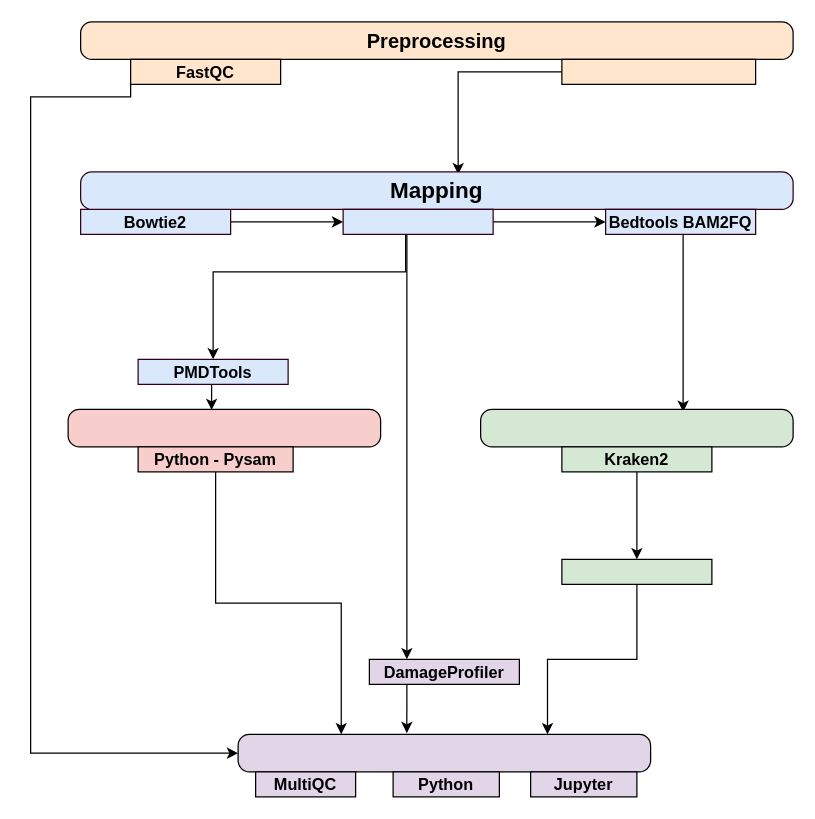
This 815x819 diagram has some shape labels left out. Each missing label, with the centre of its shape:
"AdapterRemoval v2" goes at (x=658, y=71).
"Compute Score and Report" goes at (x=444, y=752).
"Host DNA content" goes at (x=224, y=427).
"Metagenomic profiling" goes at (x=636, y=427).
"Samtools" goes at (x=417, y=221).
"Sourcepredict" goes at (x=636, y=571).
